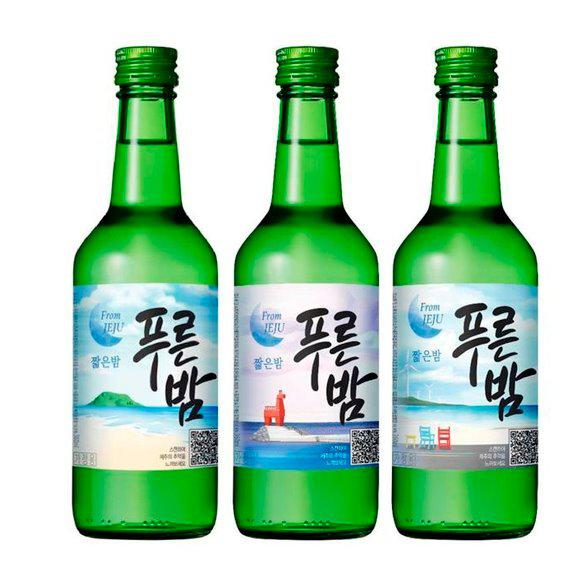soju: (68, 44, 539, 545)
